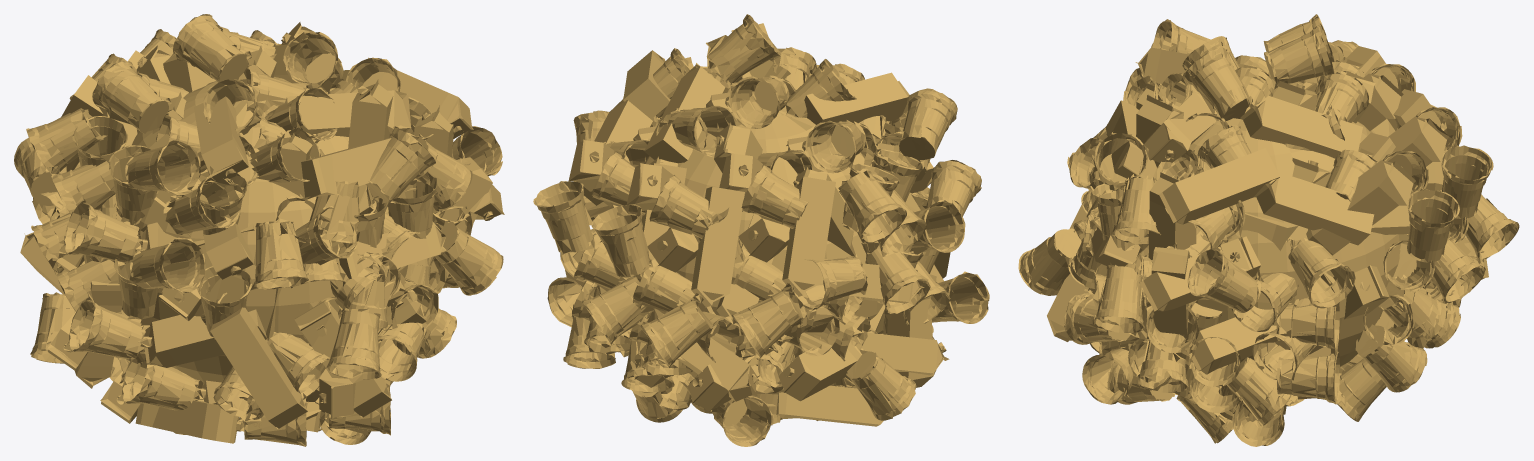
The model's file is trash ball.fbx.
3 views of the same model, side by side, from view 1: azimuth 30°, elevation 25°; view 2: azimuth 150°, elevation 25°; view 3: azimuth 270°, elevation 25° (orthographic). The views are drawn at different scales.
Visible parts, largest first — view 1: Cylinder.001; view 2: Cylinder.001; view 3: Cylinder.001.
Part boxes in pixels (box(x1,y1,x2,y2)): Cylinder.001: box(14, 14, 504, 446); Cylinder.001: box(533, 14, 989, 446); Cylinder.001: box(1018, 14, 1519, 446).
Bounding box in the file's own units: 83.96 × 74.06 × 89.23.
